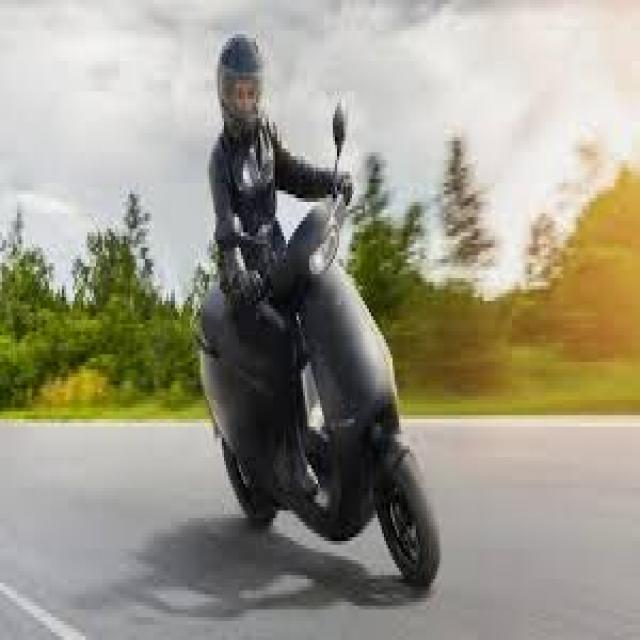Scooty: (196, 140, 464, 539)
